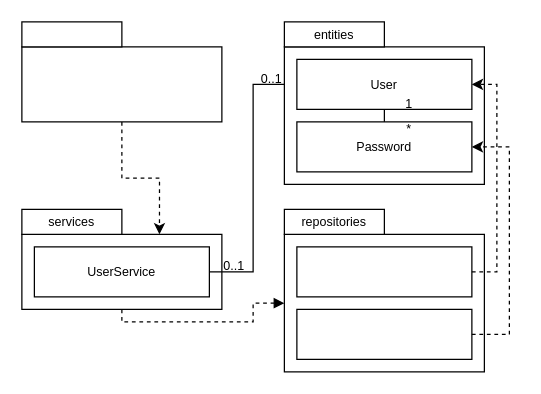
The diagram is 541 pixels wide and 394 high, and some of its shapes have lost their labels. The centre of each missing label's shape, as x and y in pixels:
"app" belongs at (121,84).
"PasswordRepository" belongs at (384,333).
"UserRepository" belongs at (384,271).
